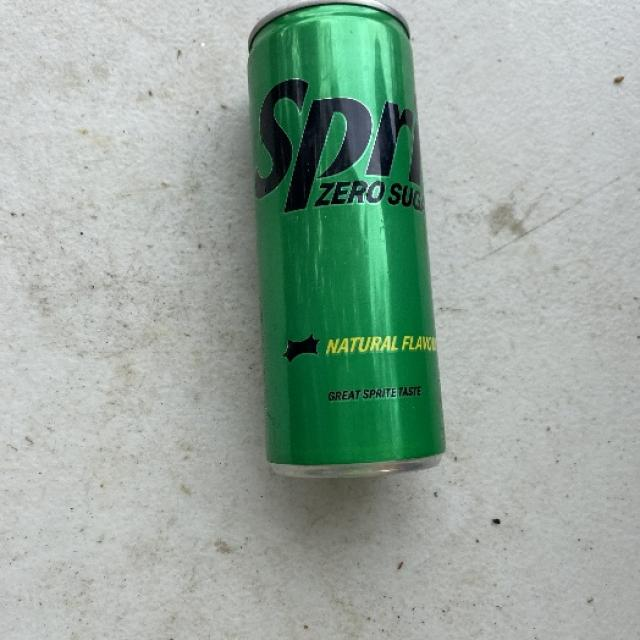metal: (245, 0, 446, 479)
